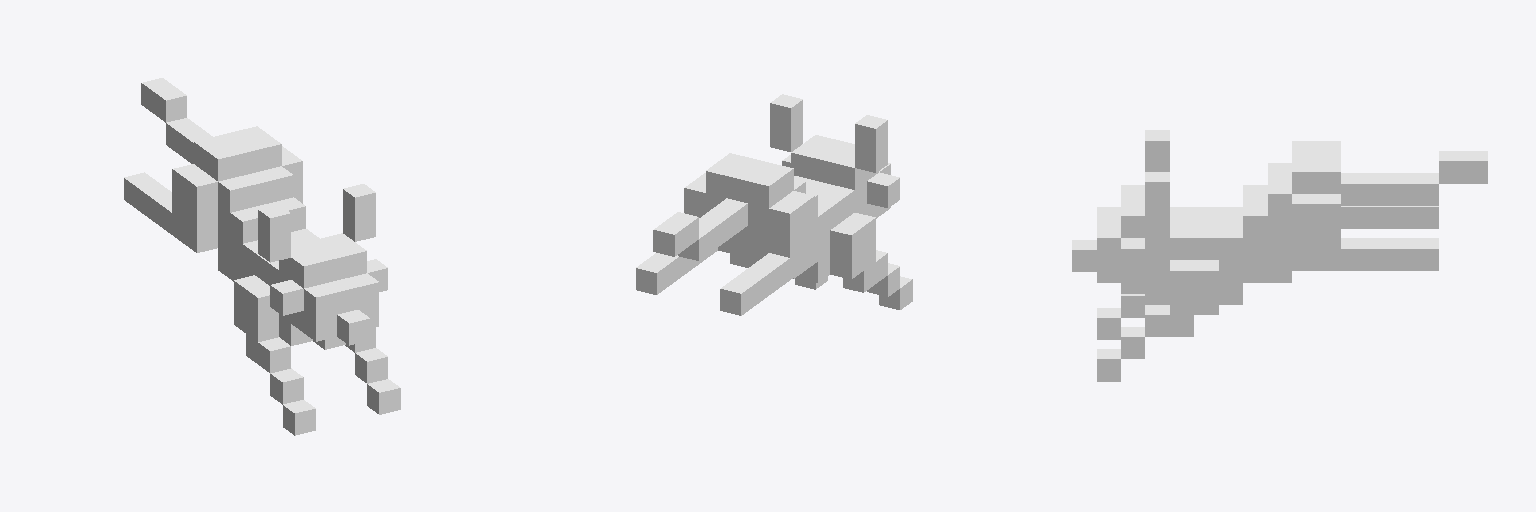
File: rat_land_1.obj
3 renders of one model, left to right at view 1: azimuth 30°, elevation 25°; view 2: azimuth 150°, elevation 25°; view 3: azimuth 270°, elevation 25°, orthographic.
Parts seen in each view (by area): view 1: object 1; view 2: object 1; view 3: object 1.
Boxes of the visible parts, x1=… form: object 1: x1=124, y1=78, x2=400, y2=435; object 1: x1=636, y1=94, x2=912, y2=315; object 1: x1=1072, y1=130, x2=1487, y2=381.
Size of the model in its own units: 0.5 by 0.9 by 1.7.